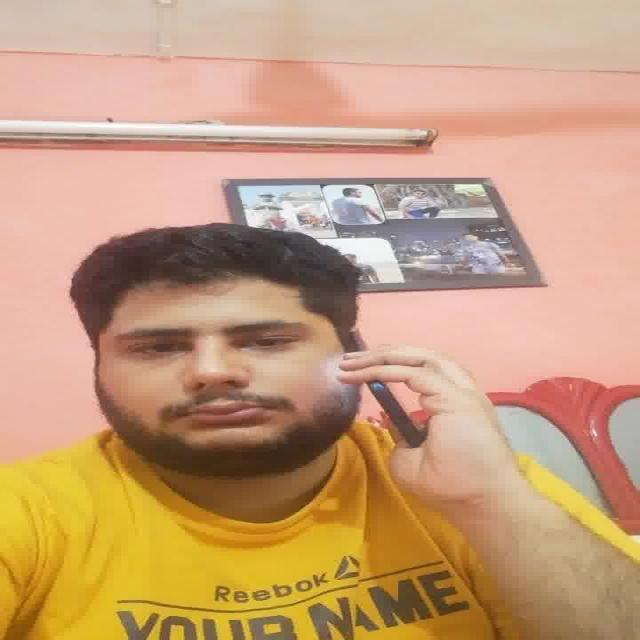Phone: (353, 327, 426, 451)
